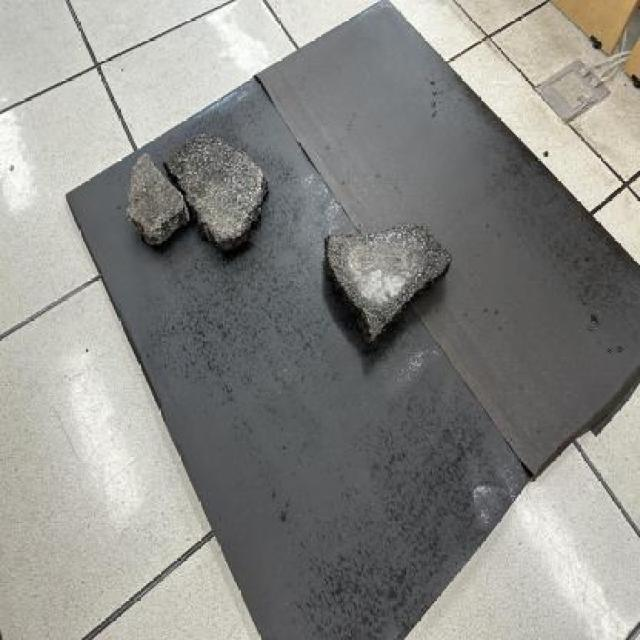Road Debris: (258, 493, 314, 595), (335, 234, 380, 306), (298, 172, 340, 246)
